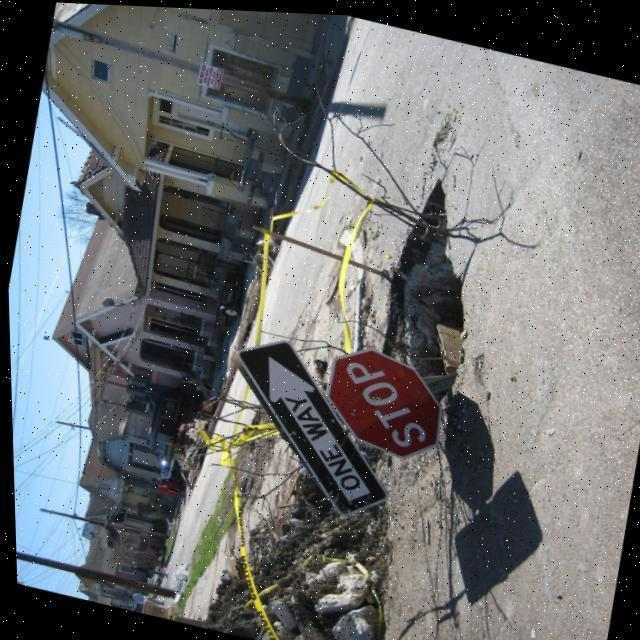Pothole: (374, 172, 472, 389)
